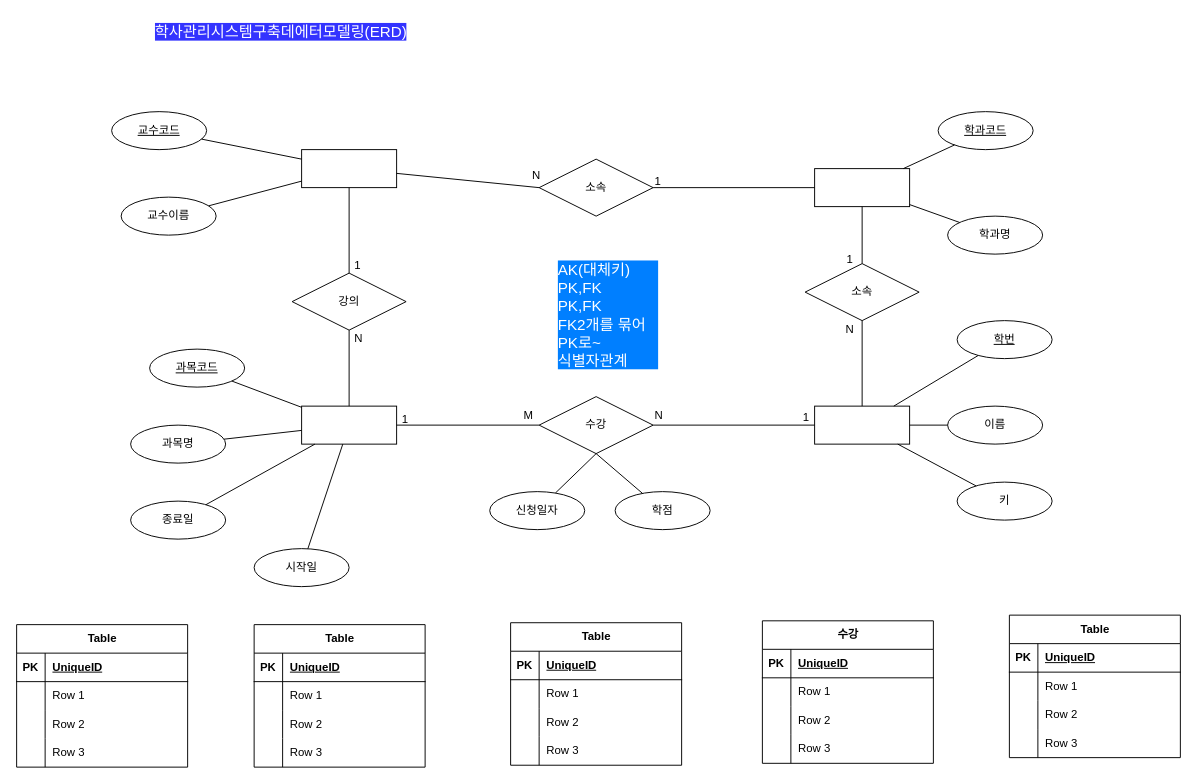
Some shapes in this 1197 by 784 pixel diagram are drawn without their labels. The box of each missing label's shape, as (x1, y1, x2, y2) in pixels:
과목: (301, 405, 397, 444)
교수: (301, 149, 397, 188)
학과: (814, 168, 910, 207)
학생: (814, 405, 910, 444)
